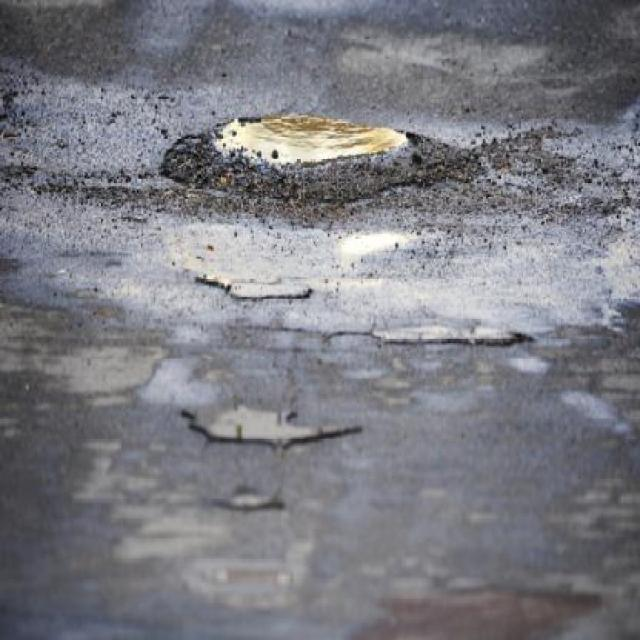pothole: (158, 106, 480, 226), (183, 402, 350, 458), (202, 276, 340, 312), (371, 322, 537, 351), (220, 486, 284, 516)
